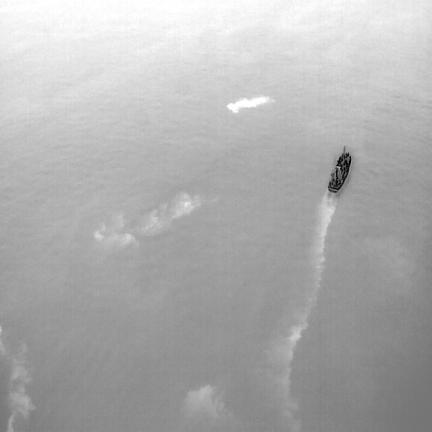flukeprints: (227, 97, 270, 112)
